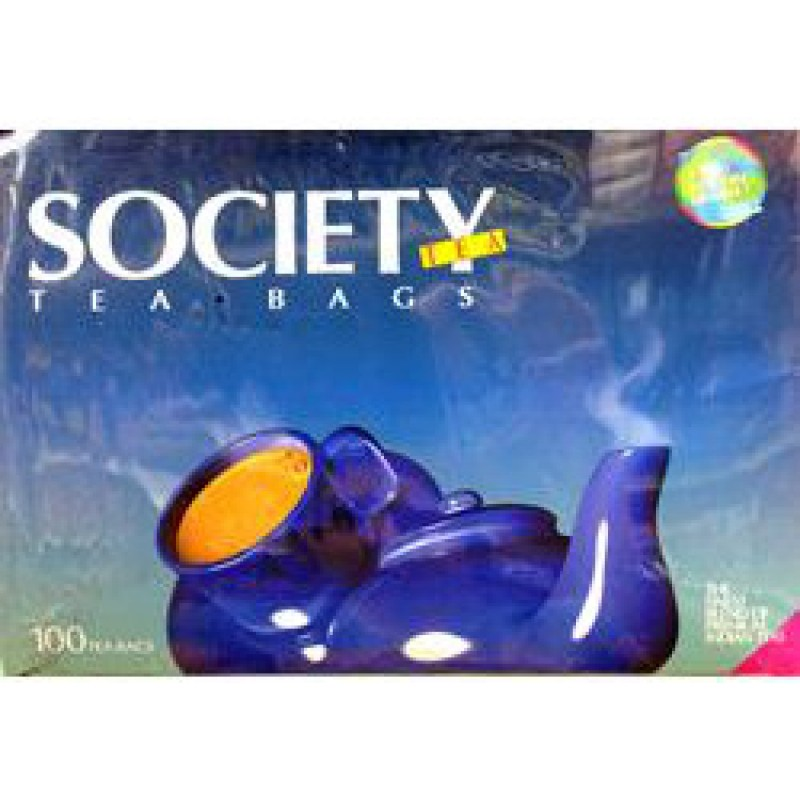society: (4, 134, 761, 677)
